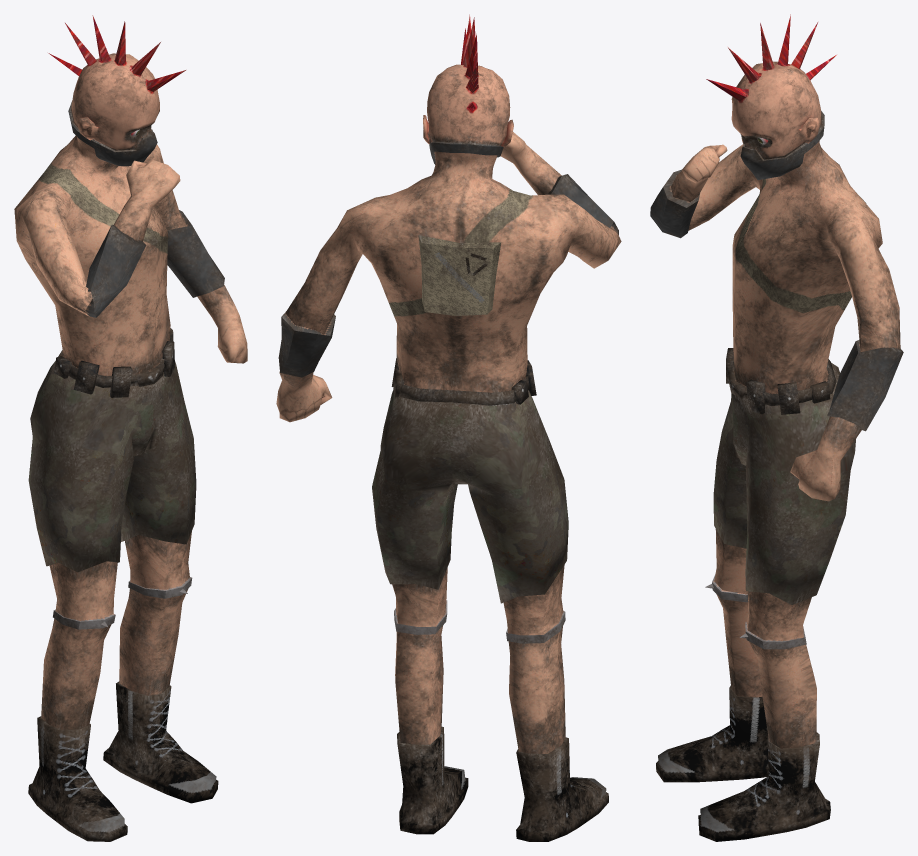
Rendered from Anim_perder_1_npc2.0030.obj.
3 renders of one model, left to right at view 1: azimuth 30°, elevation 25°; view 2: azimuth 150°, elevation 25°; view 3: azimuth 270°, elevation 25°, orthographic. The views are drawn at different scales.
Parts seen in each view (by area): view 1: polySurface1; view 2: polySurface1; view 3: polySurface1.
Boxes of the visible parts, <box> form: polySurface1: <box>14,15,247,841</box>; polySurface1: <box>276,14,621,841</box>; polySurface1: <box>650,14,903,841</box>.
Bounding box in the file's own units: 3.55 × 10.09 × 2.95.
